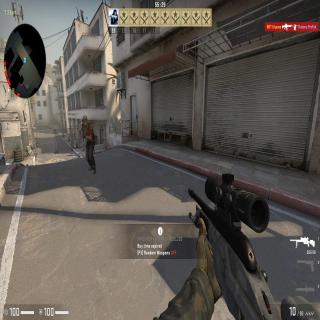T-Body: (81, 114, 98, 175)
T-Head: (82, 114, 88, 124)
